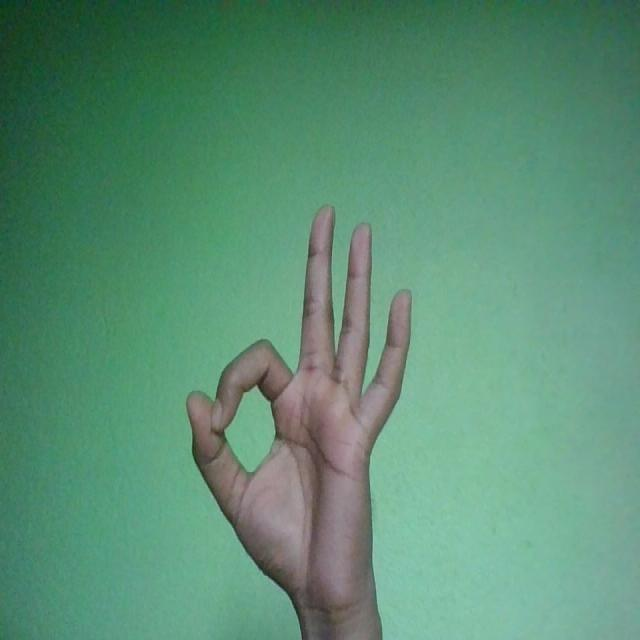Rock On: (185, 204, 412, 636)
